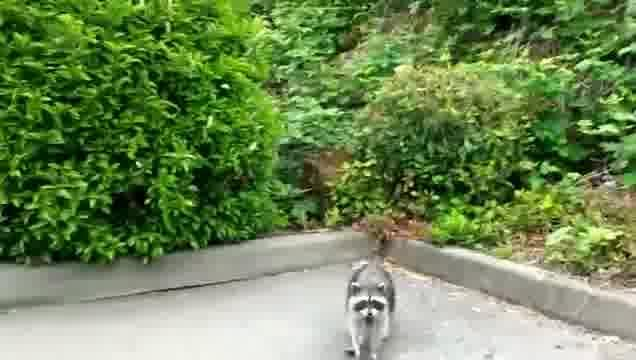raccoon: (345, 263, 396, 360)
